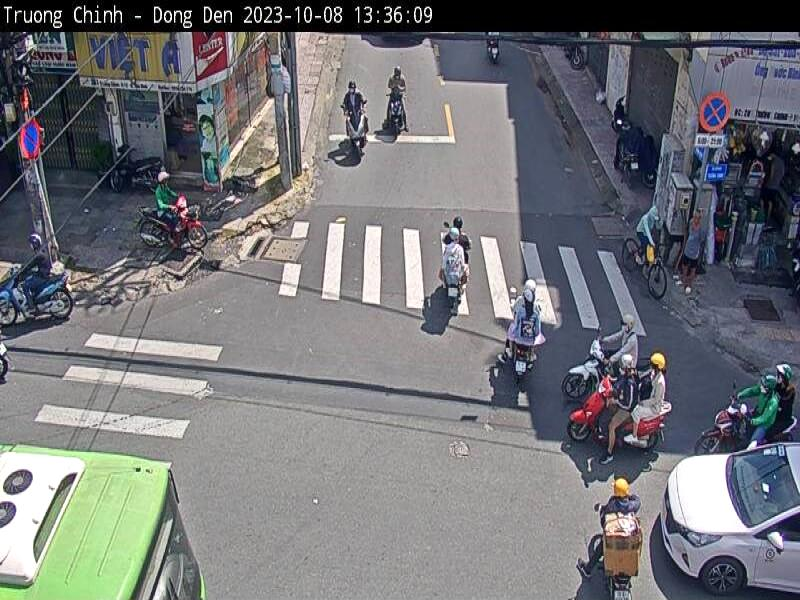bus: (0, 444, 208, 600)
car: (661, 440, 800, 600)
motorcycle: (570, 378, 672, 456), (136, 199, 210, 252), (0, 270, 72, 323), (694, 396, 740, 456), (562, 339, 604, 400), (341, 103, 372, 159), (509, 342, 535, 390), (383, 87, 407, 138)
